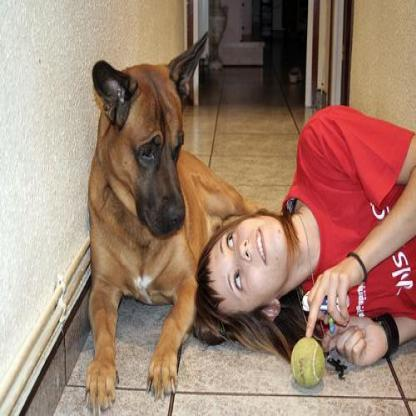dingo: (84, 28, 285, 414)
